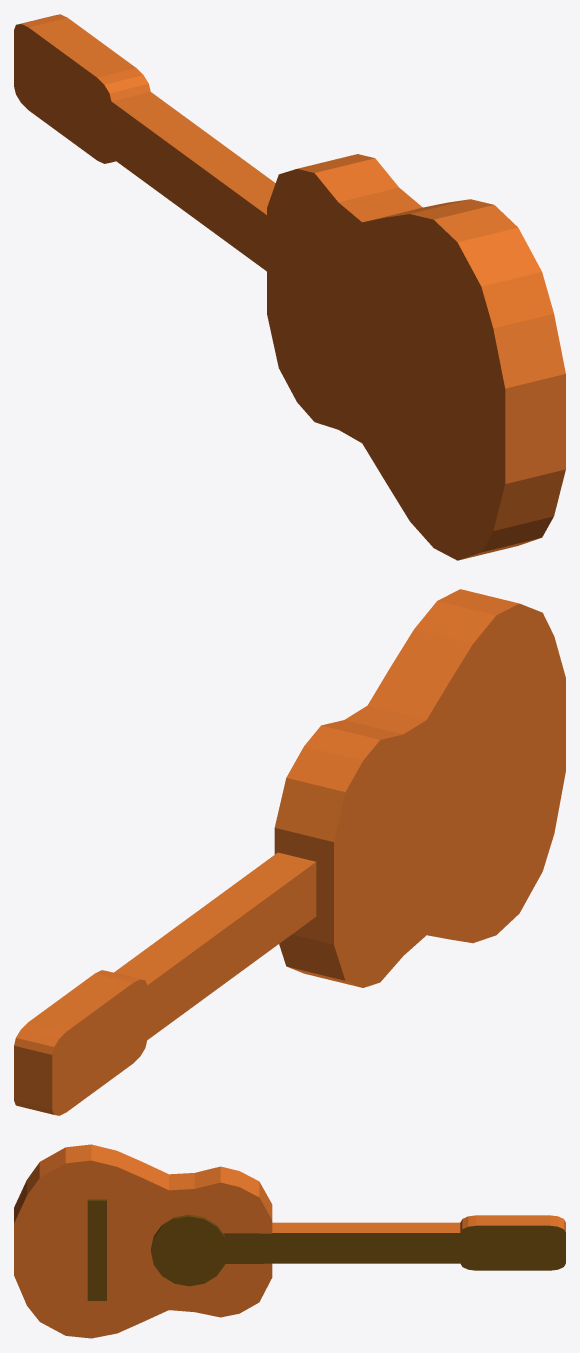
File: guitar 2.fbx
3 renders of one model, top to bottom at view 1: azimuth 30°, elevation 25°; view 2: azimuth 150°, elevation 25°; view 3: azimuth 270°, elevation 25°, orthographic. The views are drawn at different scales.
Parts seen in each view (by area): view 1: Cylinder.008, Cylinder.007, Cylinder.002, Cylinder.006; view 2: Cylinder.008, Cylinder.006, Cylinder.002, Cylinder.007; view 3: Cylinder.008, Cylinder.002, Cylinder.006, Cylinder.007.
Part boxes in pixels (left/top/right/bottom): Cylinder.008: left=281, top=154, right=550, bottom=560; Cylinder.007: left=459, top=302, right=565, bottom=559; Cylinder.002: left=14, top=14, right=231, bottom=209; Cylinder.006: left=183, top=151, right=311, bottom=418; Cylinder.008: left=285, top=589, right=553, bottom=983; Cylinder.006: left=188, top=782, right=377, bottom=988; Cylinder.002: left=14, top=918, right=229, bottom=1115; Cylinder.007: left=522, top=636, right=565, bottom=908; Cylinder.008: left=27, top=1144, right=260, bottom=1338; Cylinder.002: left=369, top=1215, right=565, bottom=1270; Cylinder.006: left=229, top=1180, right=385, bottom=1315; Cylinder.007: left=14, top=1179, right=67, bottom=1335.
Size of the model in its own units: 37.03 by 171 by 481.
